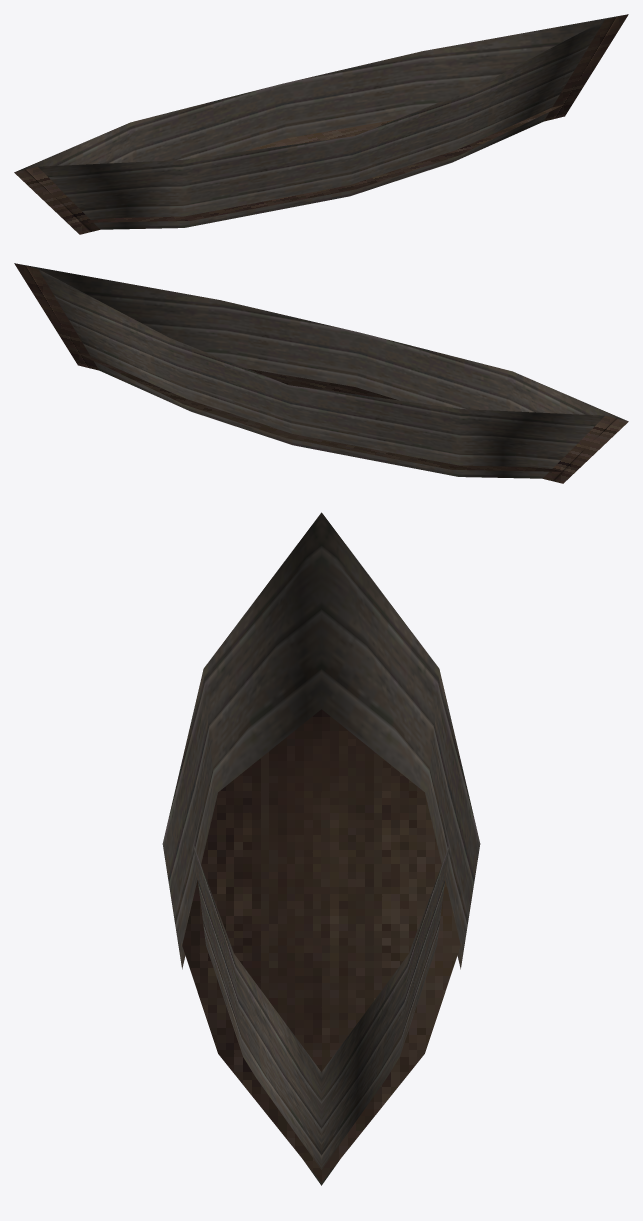
Rendered from boat.gltf.
The picture shows the model from 3 angles, top to bottom: view 1: azimuth 30°, elevation 25°; view 2: azimuth 150°, elevation 25°; view 3: azimuth 270°, elevation 25°; orthographic projection. The views are drawn at different scales.
Parts seen in each view (by area): view 1: boat; view 2: boat; view 3: boat.
Part boxes in pixels (bbox=[...]): boat: bbox=[14, 14, 628, 234]; boat: bbox=[14, 263, 628, 483]; boat: bbox=[162, 512, 480, 1185].
Bounding box in the file's own units: 27.29 × 3.68 × 6.1.
